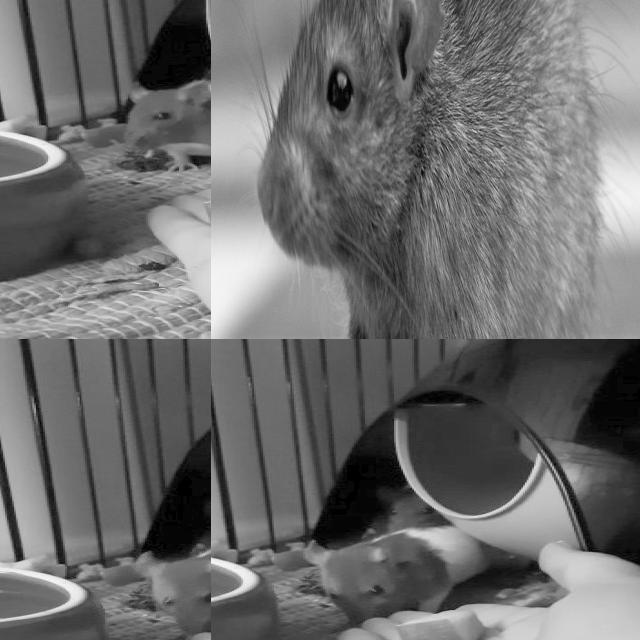rat: (257, 0, 596, 339), (300, 521, 500, 623), (113, 83, 211, 172), (134, 540, 211, 638), (378, 485, 456, 540)
